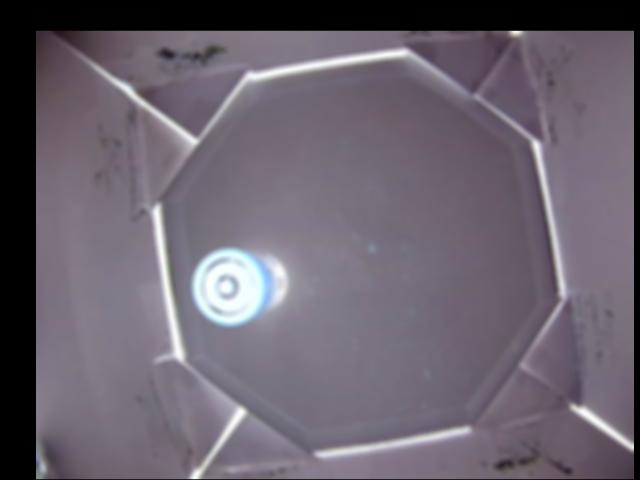Battery: (191, 246, 287, 325)
